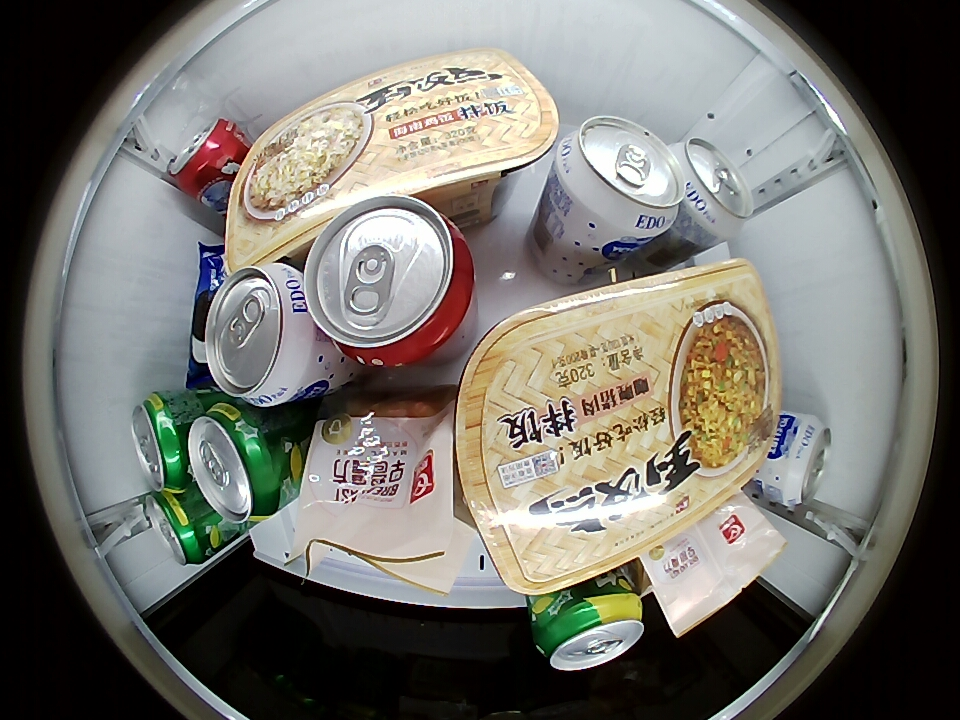aoliao: (185, 241, 223, 395)
daofandian1: (225, 51, 556, 243)
daofandian3: (455, 266, 782, 590)
kele: (304, 194, 474, 368), (169, 116, 241, 199)
rusuanjunqishui: (551, 114, 684, 242), (205, 262, 318, 406), (675, 138, 755, 240), (763, 412, 831, 507)
xuebi2: (188, 404, 286, 523), (530, 588, 646, 671), (132, 392, 192, 490), (144, 488, 212, 564)
zaocanmofang: (298, 397, 457, 563), (647, 500, 788, 636)
